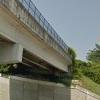Bridge: (1, 0, 80, 73)
